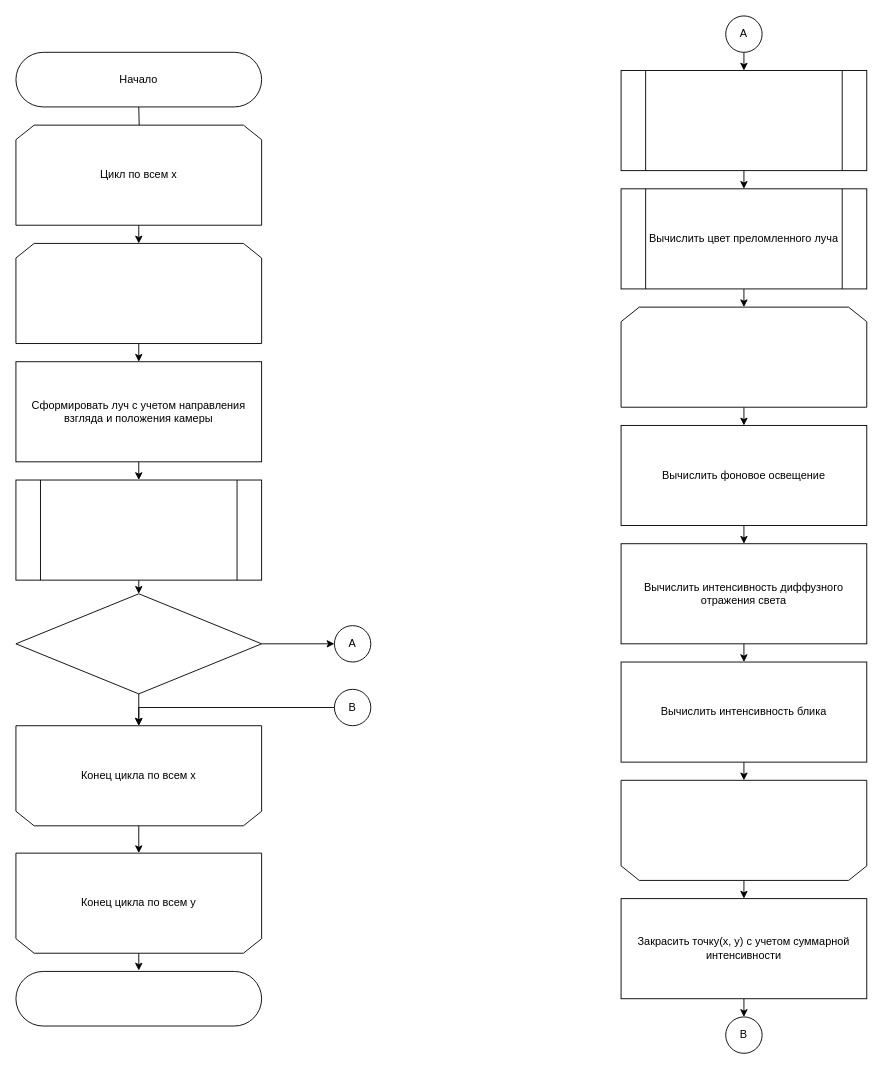
Image size: 883x1069. Some labels were removed from this diagram. Here are the shapes that lost their labels. From the top down, the centre of each, then its label:
(743,120): Вычислить цвет отраженного луча
(138,293): Цикл по всем y
(743,356): Цикл по всем источникам света
(138,529): Найти ближайшее пересечение трассируемого луча с объектами сцены
(138,643): Пересечение найдено или достигнута максимальная глубина рекурсии?
(743,829): Конец цикла по всем источникам света
(138,998): Конец
